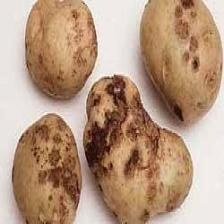Defected potato: (84, 74, 194, 223), (139, 0, 223, 125), (4, 102, 87, 224), (22, 4, 107, 100)
